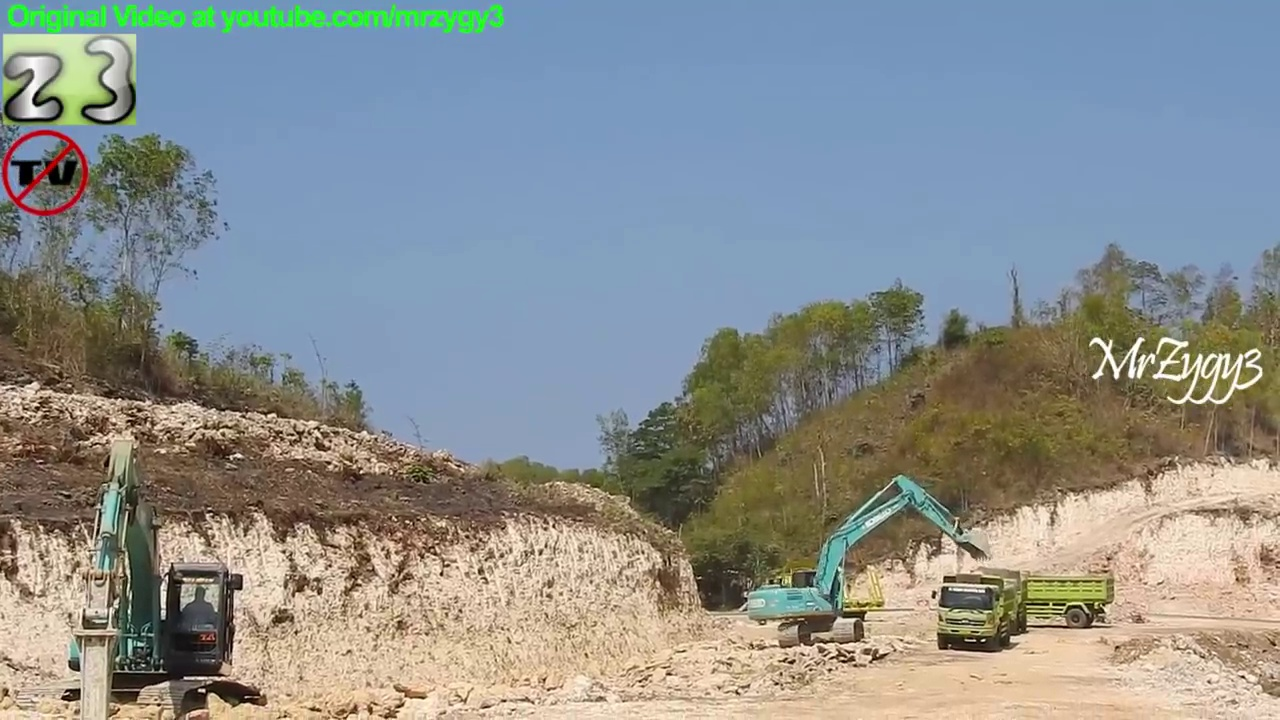excavator: (13, 428, 276, 720), (746, 472, 993, 647)
truck: (958, 562, 1117, 634), (930, 569, 1019, 654), (944, 565, 1033, 643)
